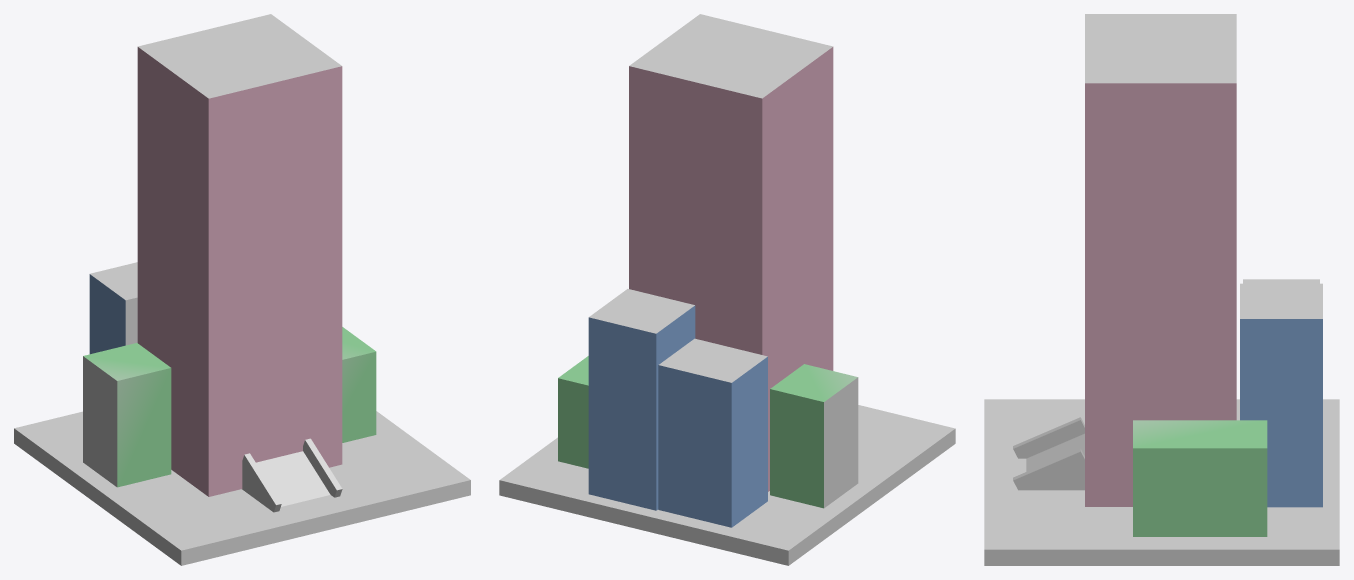
File: building2.fbx
The picture shows the model from 3 angles, left to right: view 1: azimuth 30°, elevation 25°; view 2: azimuth 150°, elevation 25°; view 3: azimuth 270°, elevation 25°; orthographic projection. The views are drawn at different scales.
Visible parts, largest first — view 1: Cube; view 2: Cube; view 3: Cube.
Boxes of the visible parts, x1,y1,x2,y2 form: Cube: (14,14,470,565); Cube: (499,14,955,565); Cube: (984,14,1339,565).
Bounding box in the file's own units: 400 × 547 × 400.
